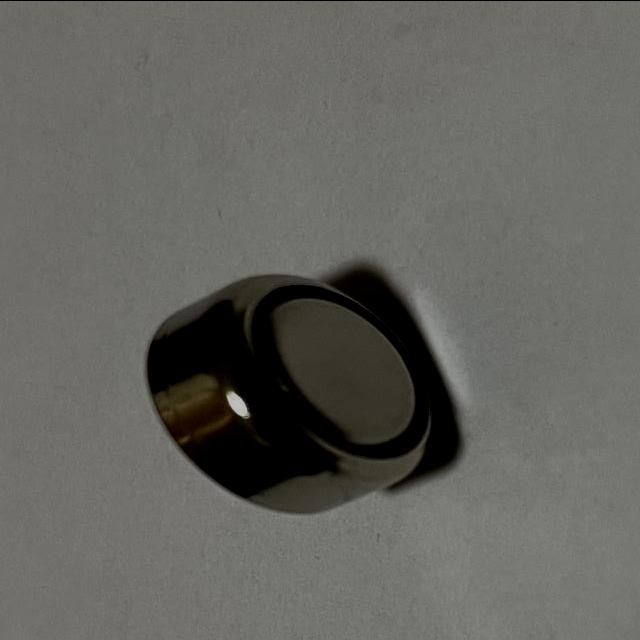COIN: (145, 272, 442, 514)
